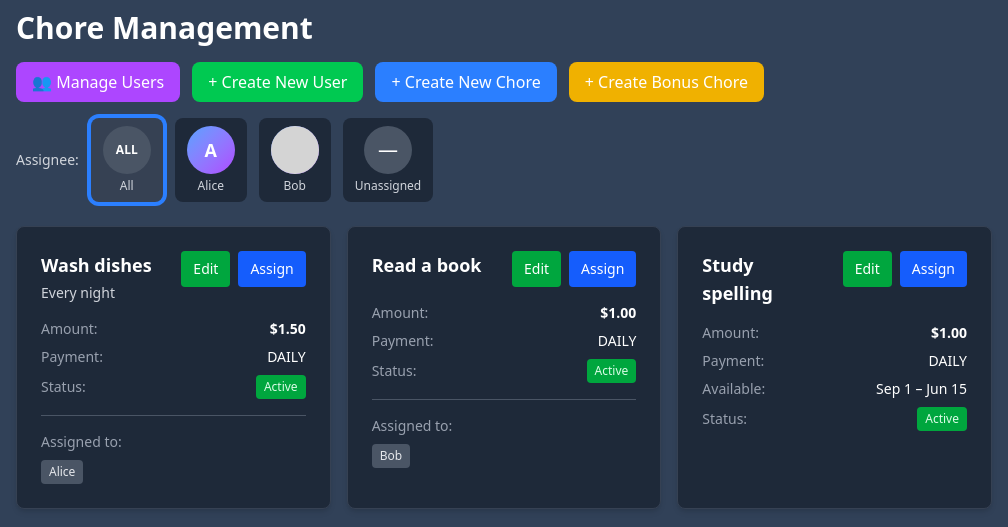
Test: assignee filter › narrows to one kid when their chip is clicked
Expected: the heading "Wash dishes" is shown, [41,251,165,279]
Click the button "A Alice": (211, 160) [175,118,247,202]
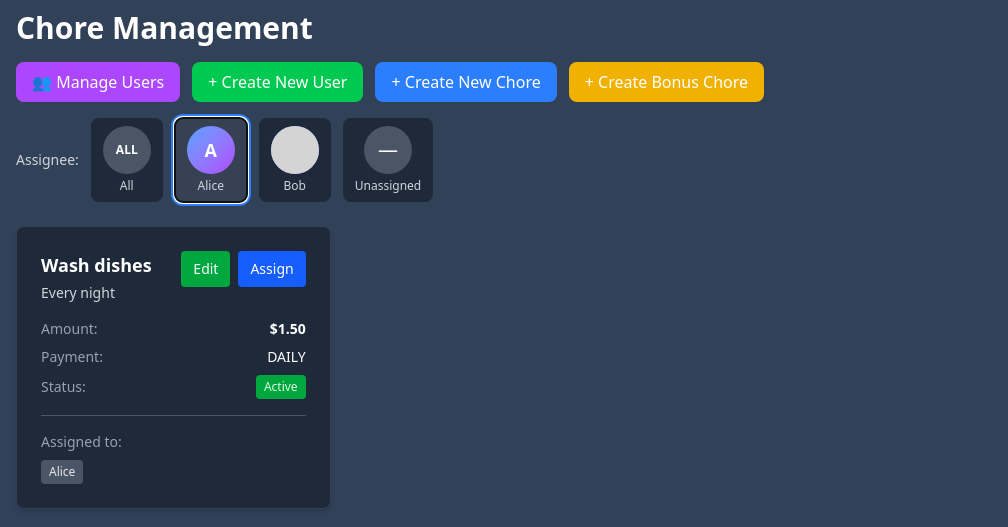
Expected: the heading "Wash dishes" is shown, [41,251,165,279]
Expected: the heading "Read a book" is gone
Expected: the heading "Study spelling" is gone
